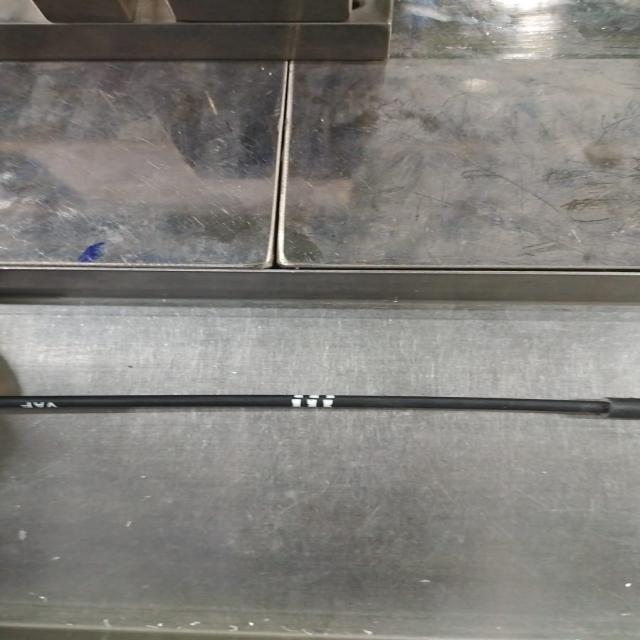white: (291, 394, 336, 409)
